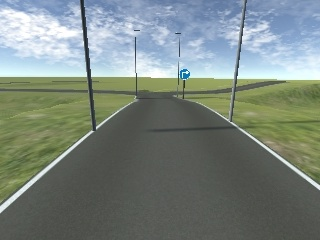turn_right_sign: (177, 66, 189, 79)
